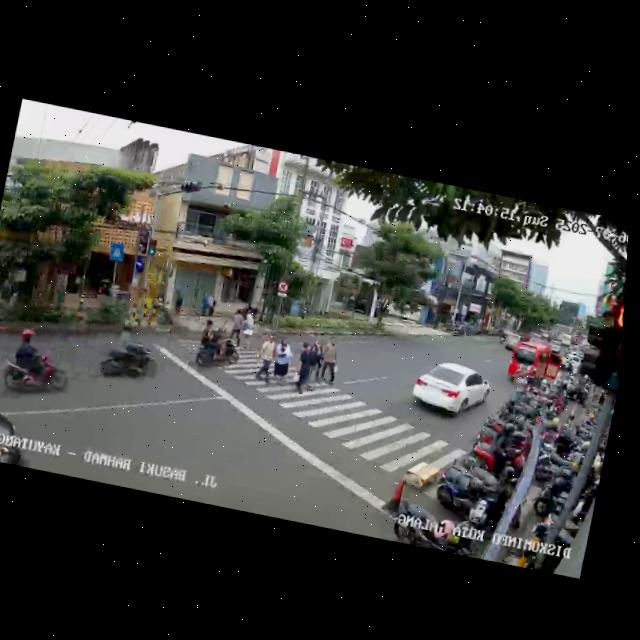car: (407, 354, 494, 426), (504, 338, 567, 394), (0, 395, 29, 466)
motorcycle: (0, 329, 79, 408), (88, 332, 161, 395), (191, 318, 238, 374)
person: (268, 336, 295, 392), (316, 336, 343, 391), (251, 333, 279, 384), (291, 342, 315, 397), (305, 338, 326, 385), (227, 310, 246, 349), (240, 313, 258, 350)
